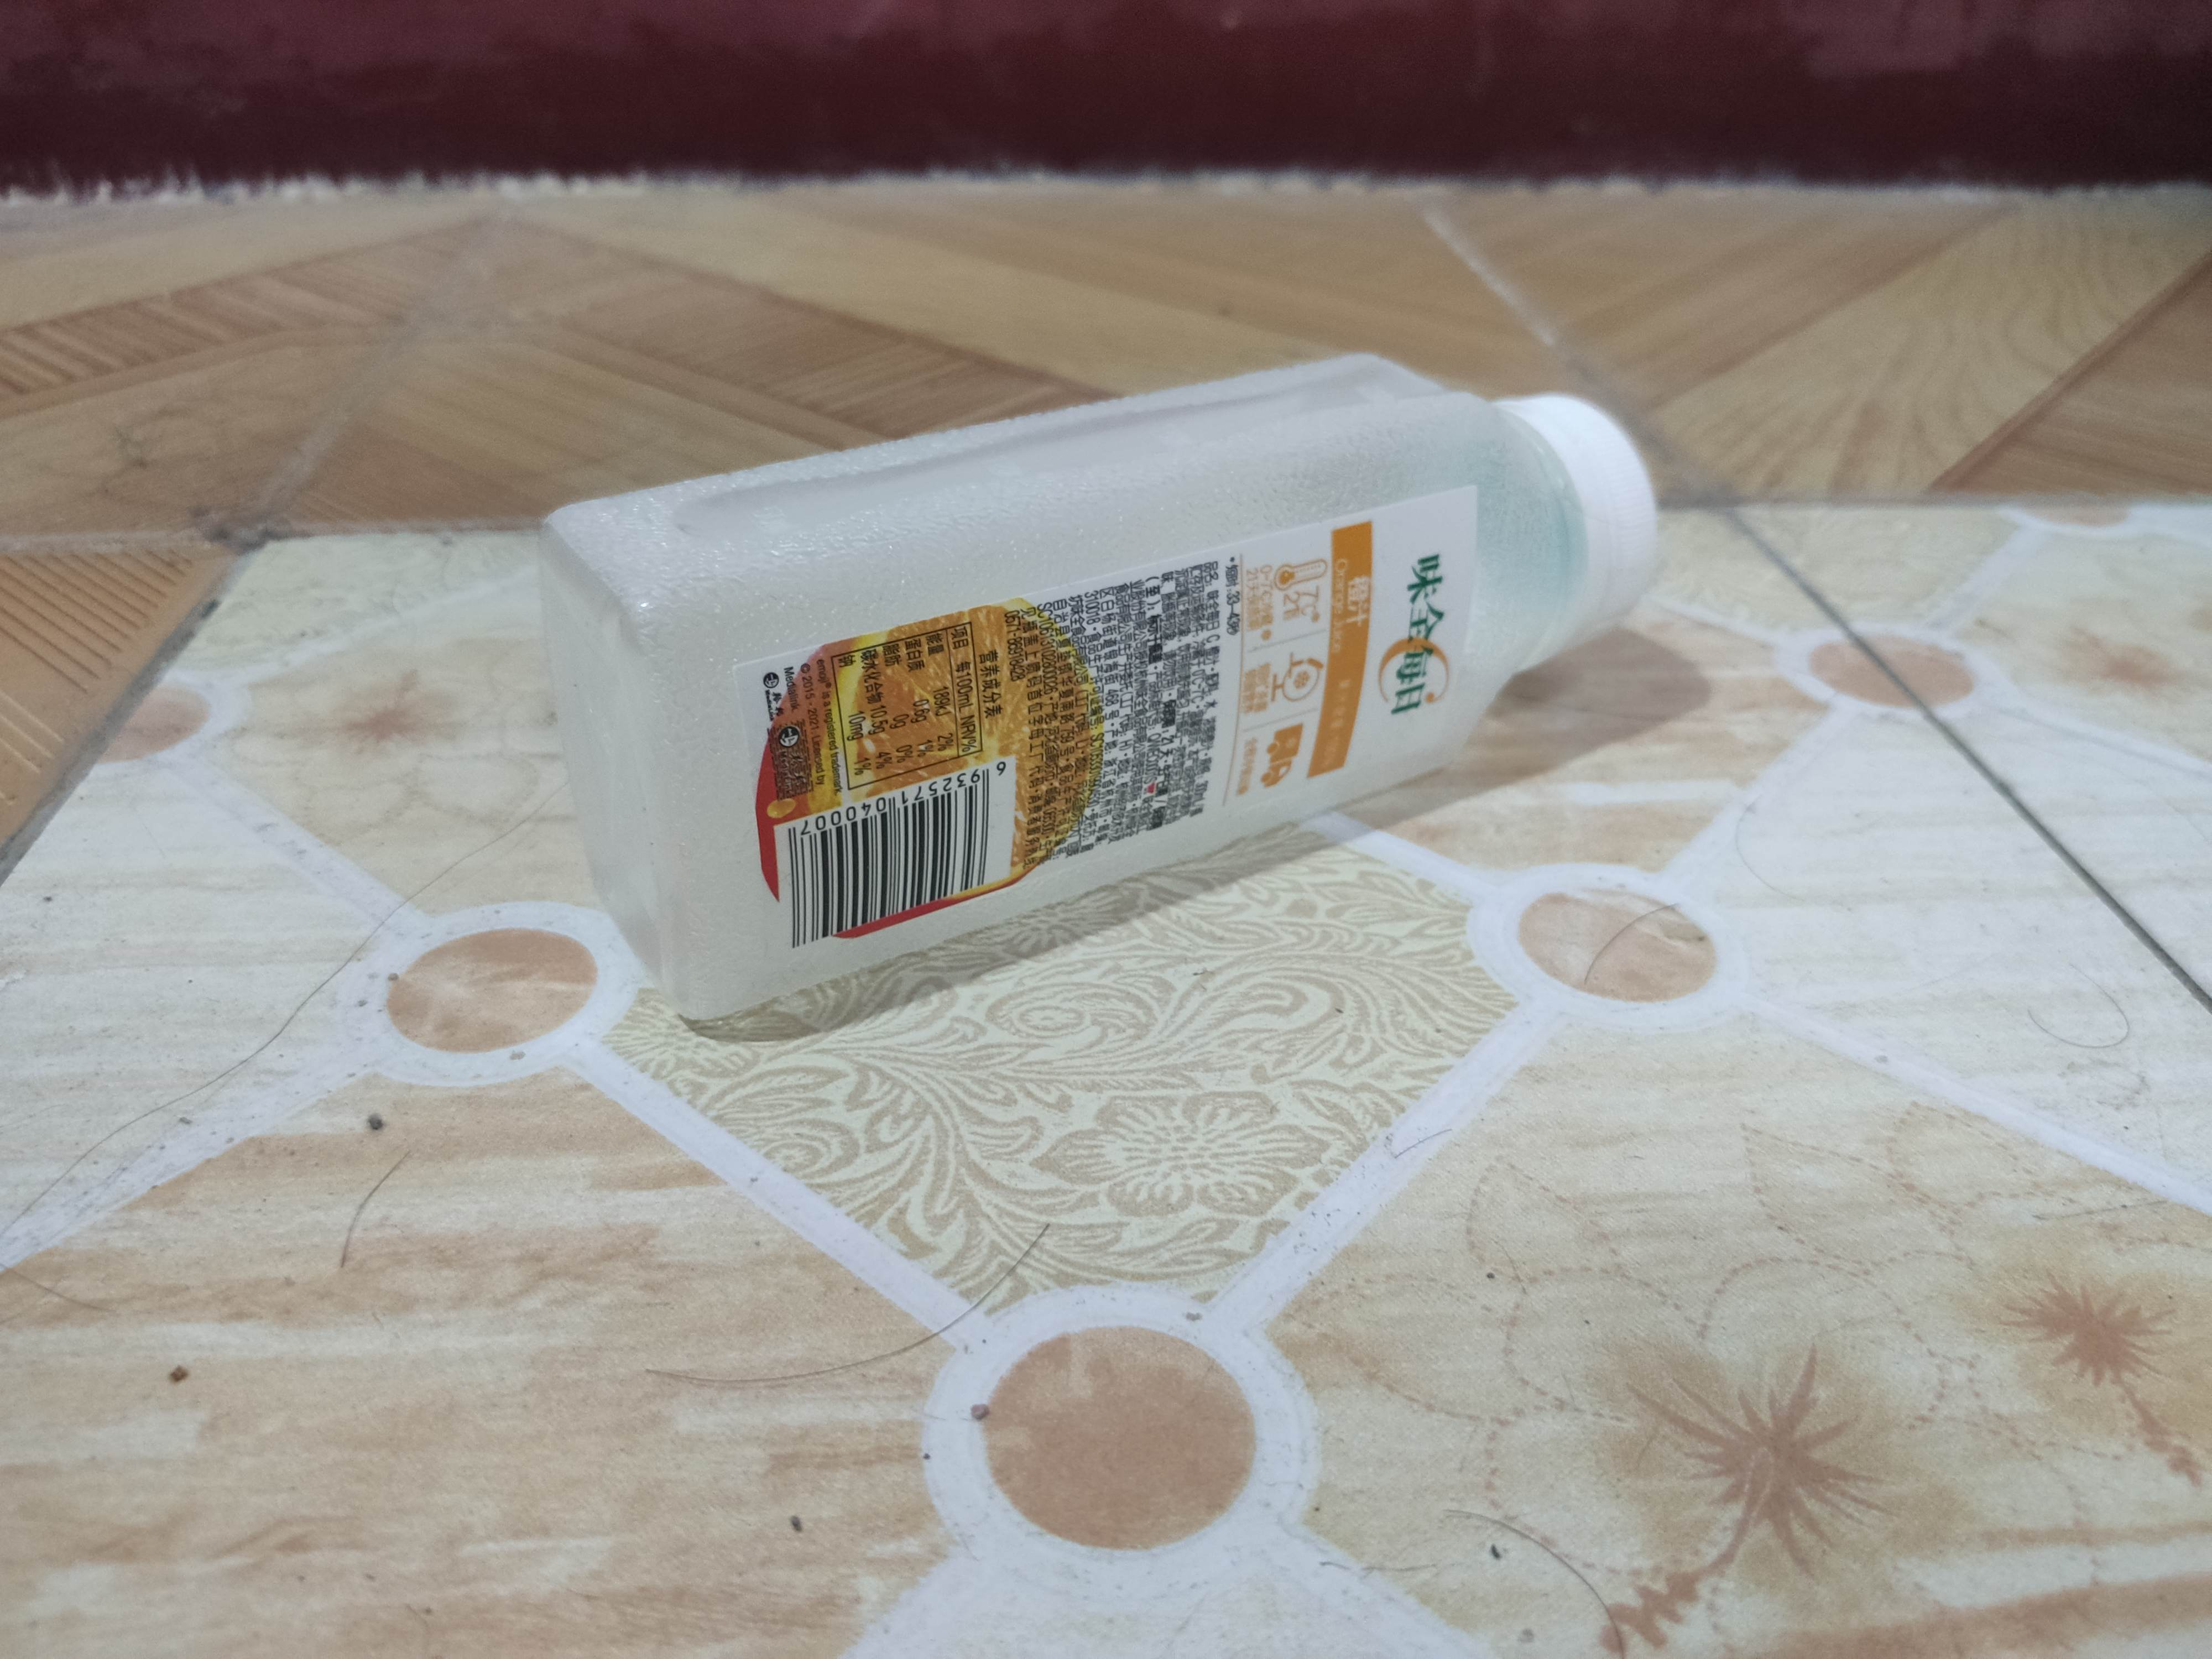Plastic Bottle: (528, 345, 1669, 1040)
